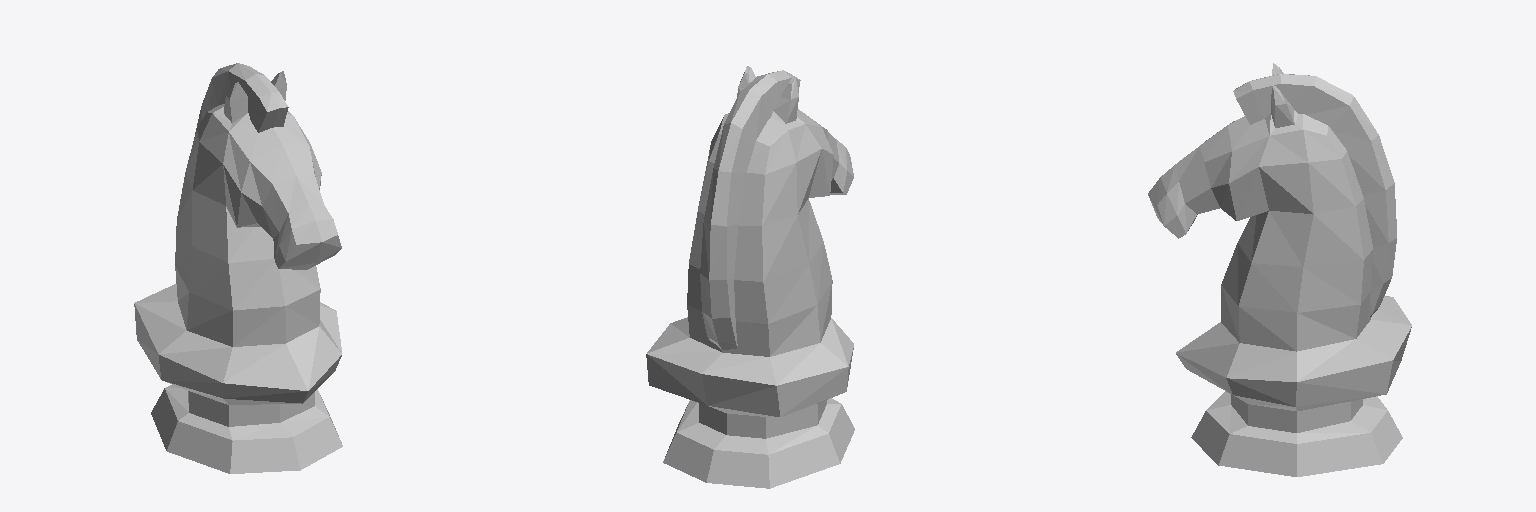
File: knight_og.obj
3 views of the same model, side by side, from view 1: azimuth 30°, elevation 25°; view 2: azimuth 150°, elevation 25°; view 3: azimuth 270°, elevation 25° (orthographic).
Size of the model in its own units: 1.15 by 2.24 by 1.47.